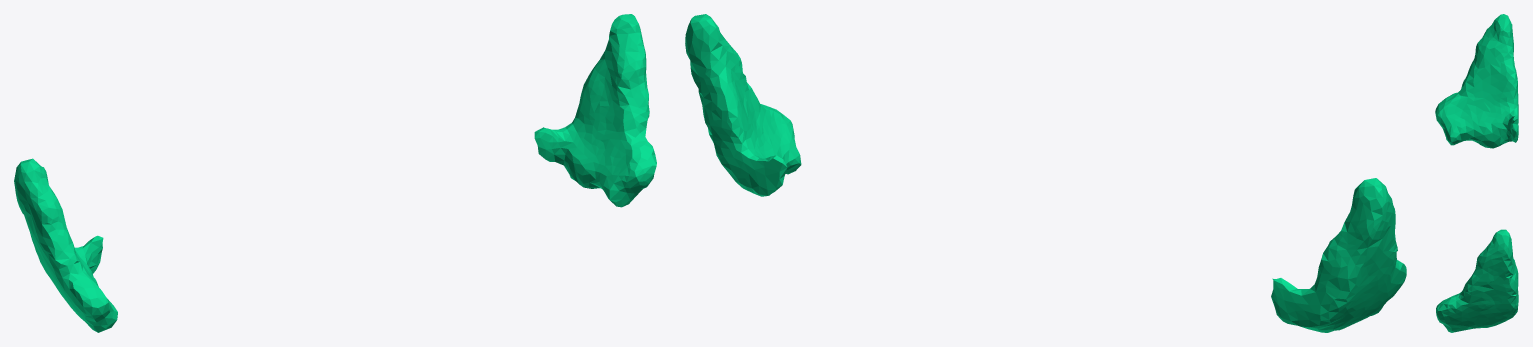
File: 21-TE3-temporal area TE3-('0.0000', '1.0000', '0.6510').obj
3 renders of one model, left to right at view 1: azimuth 30°, elevation 25°; view 2: azimuth 150°, elevation 25°; view 3: azimuth 270°, elevation 25°, orthographic. The views are drawn at different scales.
Bounding box in the file's own units: 362 × 87.59 × 57.08.
